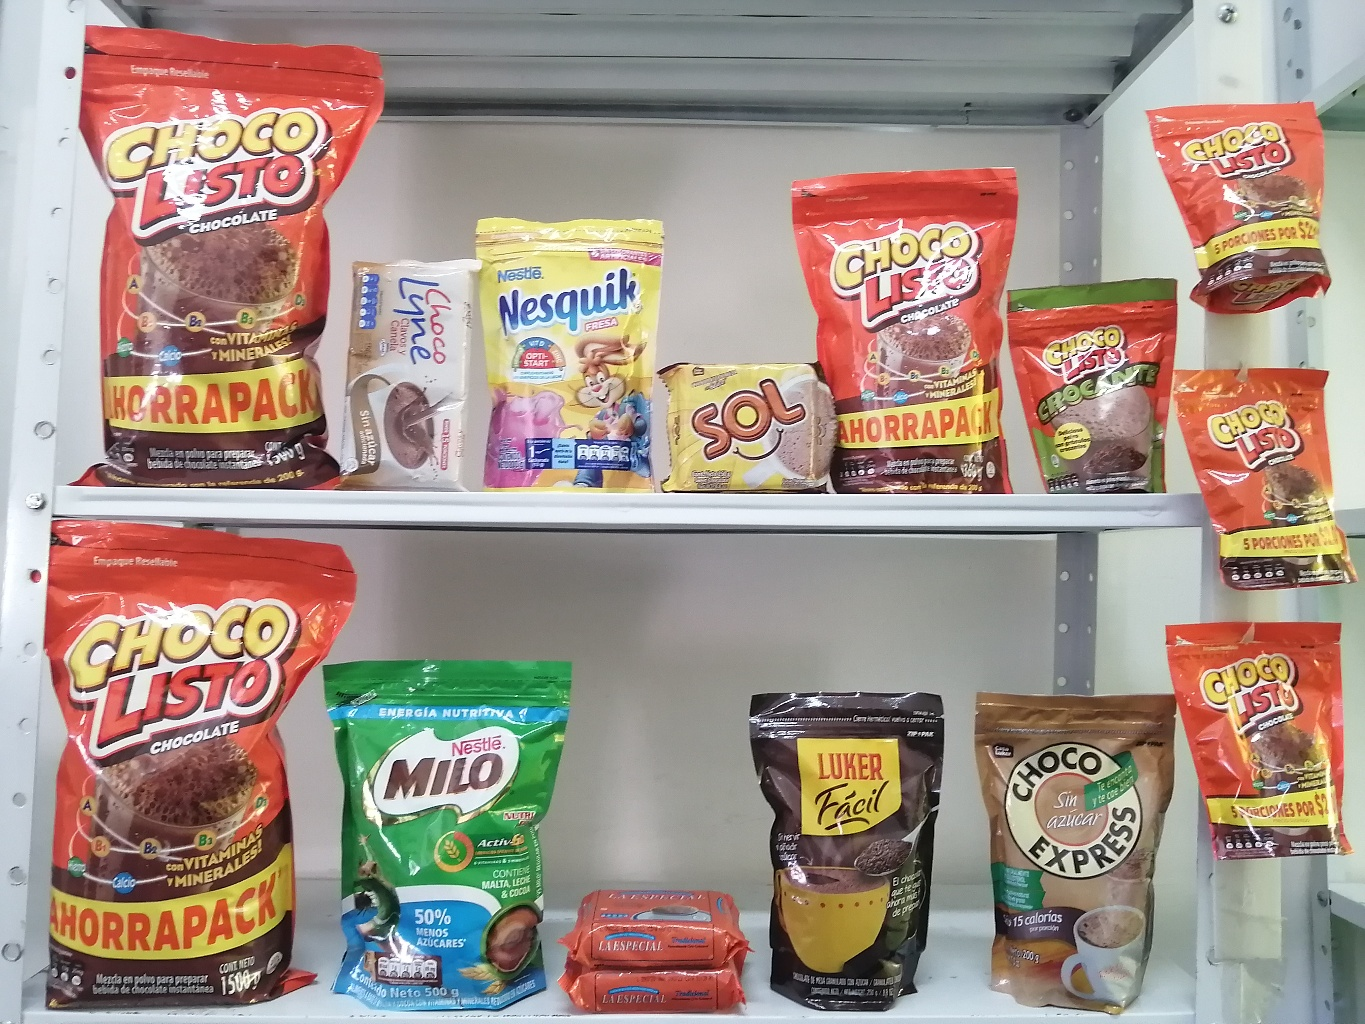COL0170102DYP10000: (1009, 268, 1188, 503)
COL0170103DYP1,500: (74, 8, 386, 497)
COL0170103DYP36000: (788, 146, 1028, 494)
COL0170205DYP50000: (325, 645, 566, 1014)
COL0170305DYP20000: (474, 199, 668, 483)
